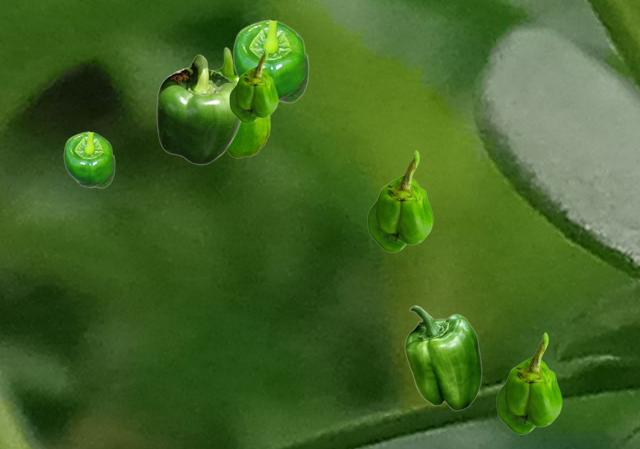bell_pepper: (156, 54, 240, 164), (404, 305, 481, 410), (496, 332, 561, 433), (367, 150, 432, 251), (232, 19, 308, 102), (215, 47, 269, 157), (229, 48, 277, 122), (63, 131, 114, 187)
